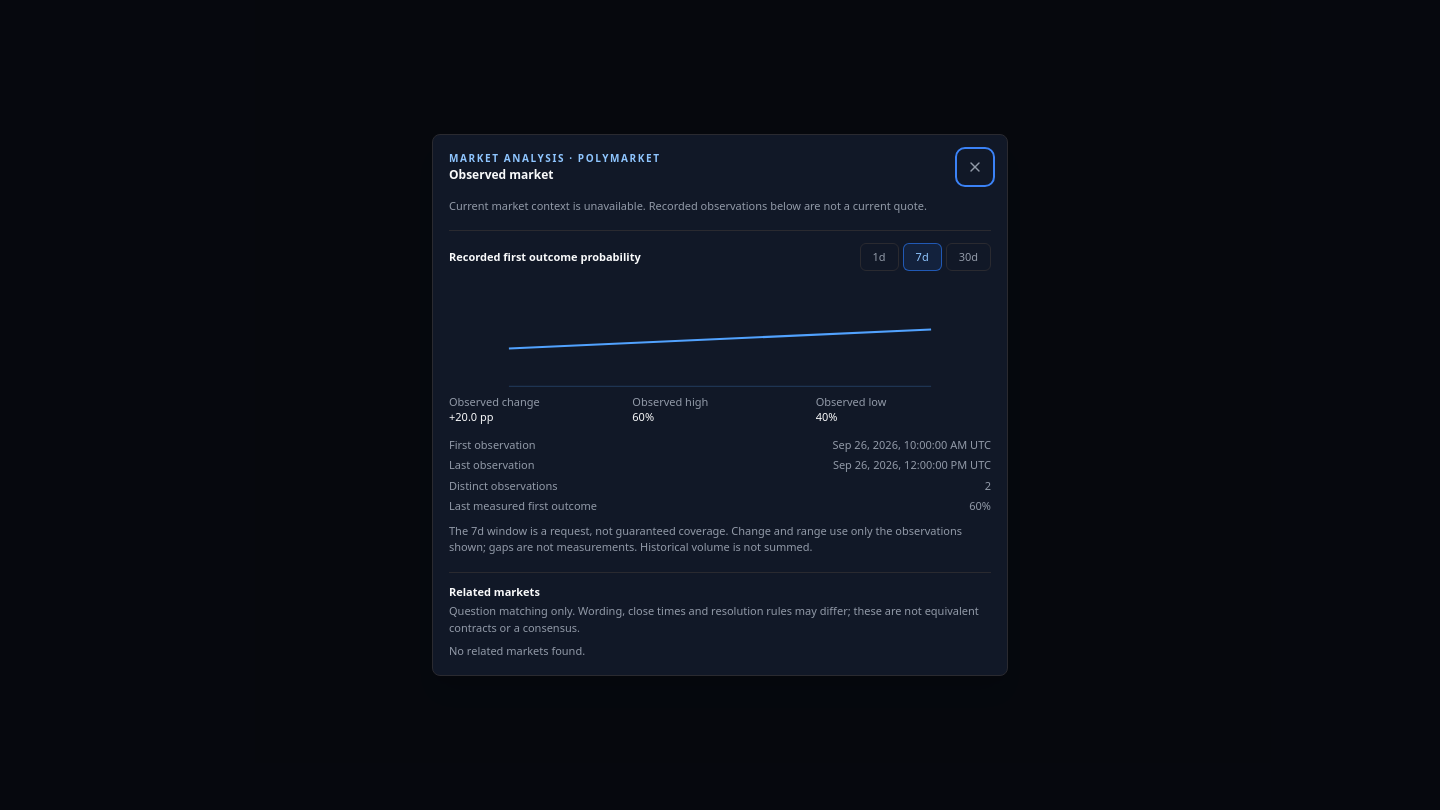
Test case: PredictionMarketDrawer › measures only distinct observed timestamps and clears old history when switching windows
Check: the text "+20.0 pp" is shown, box [449,409,494,424]
Check: the text "2" is shown, box [985,478,991,494]
Click the button "1d": click(879, 257) [860,243,899,272]
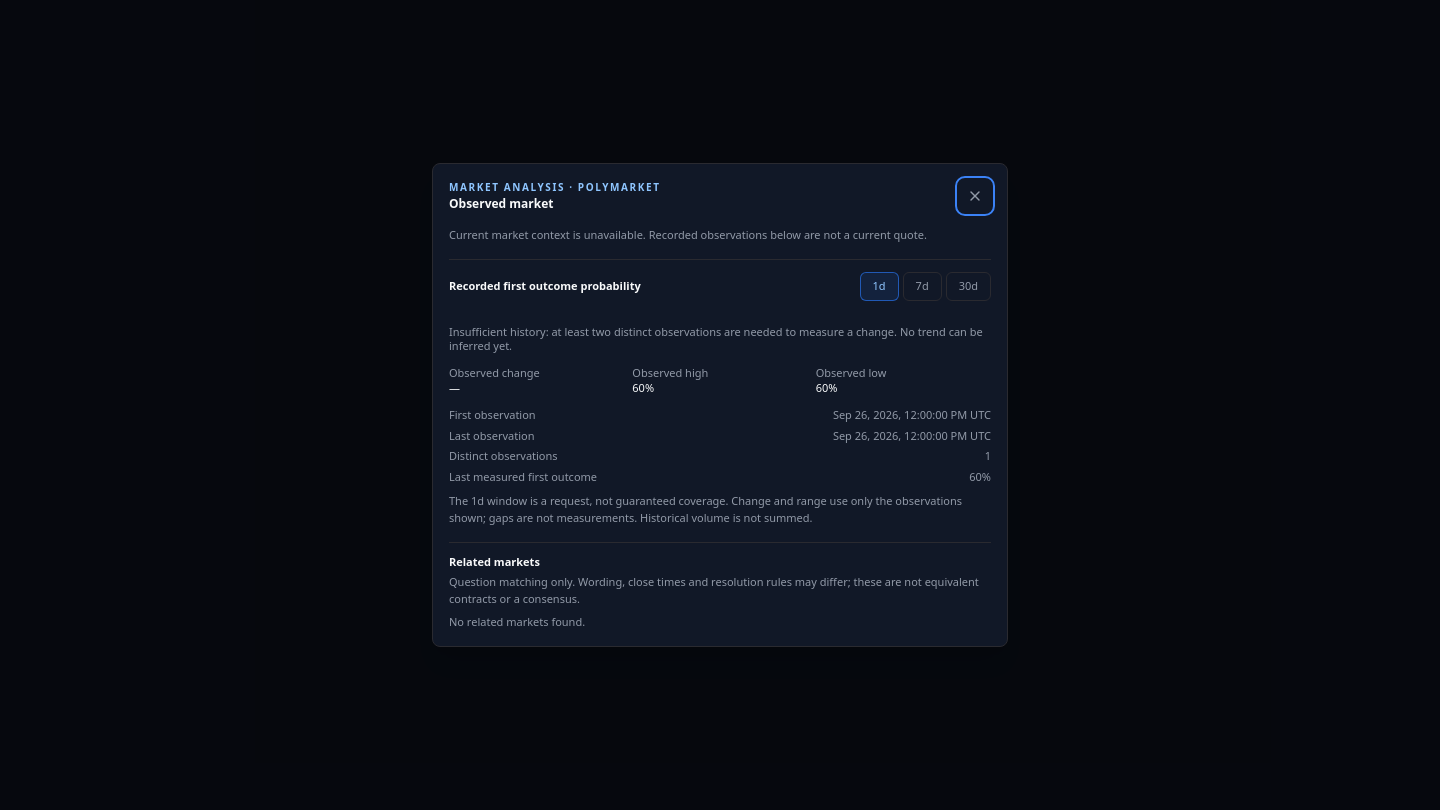
Check: the text "—" is shown, box [449,380,460,395]
Check: the text "+20.0 pp" is gone
Check: the picture is gone
